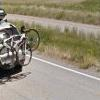Bicycle: (0, 26, 43, 74)
